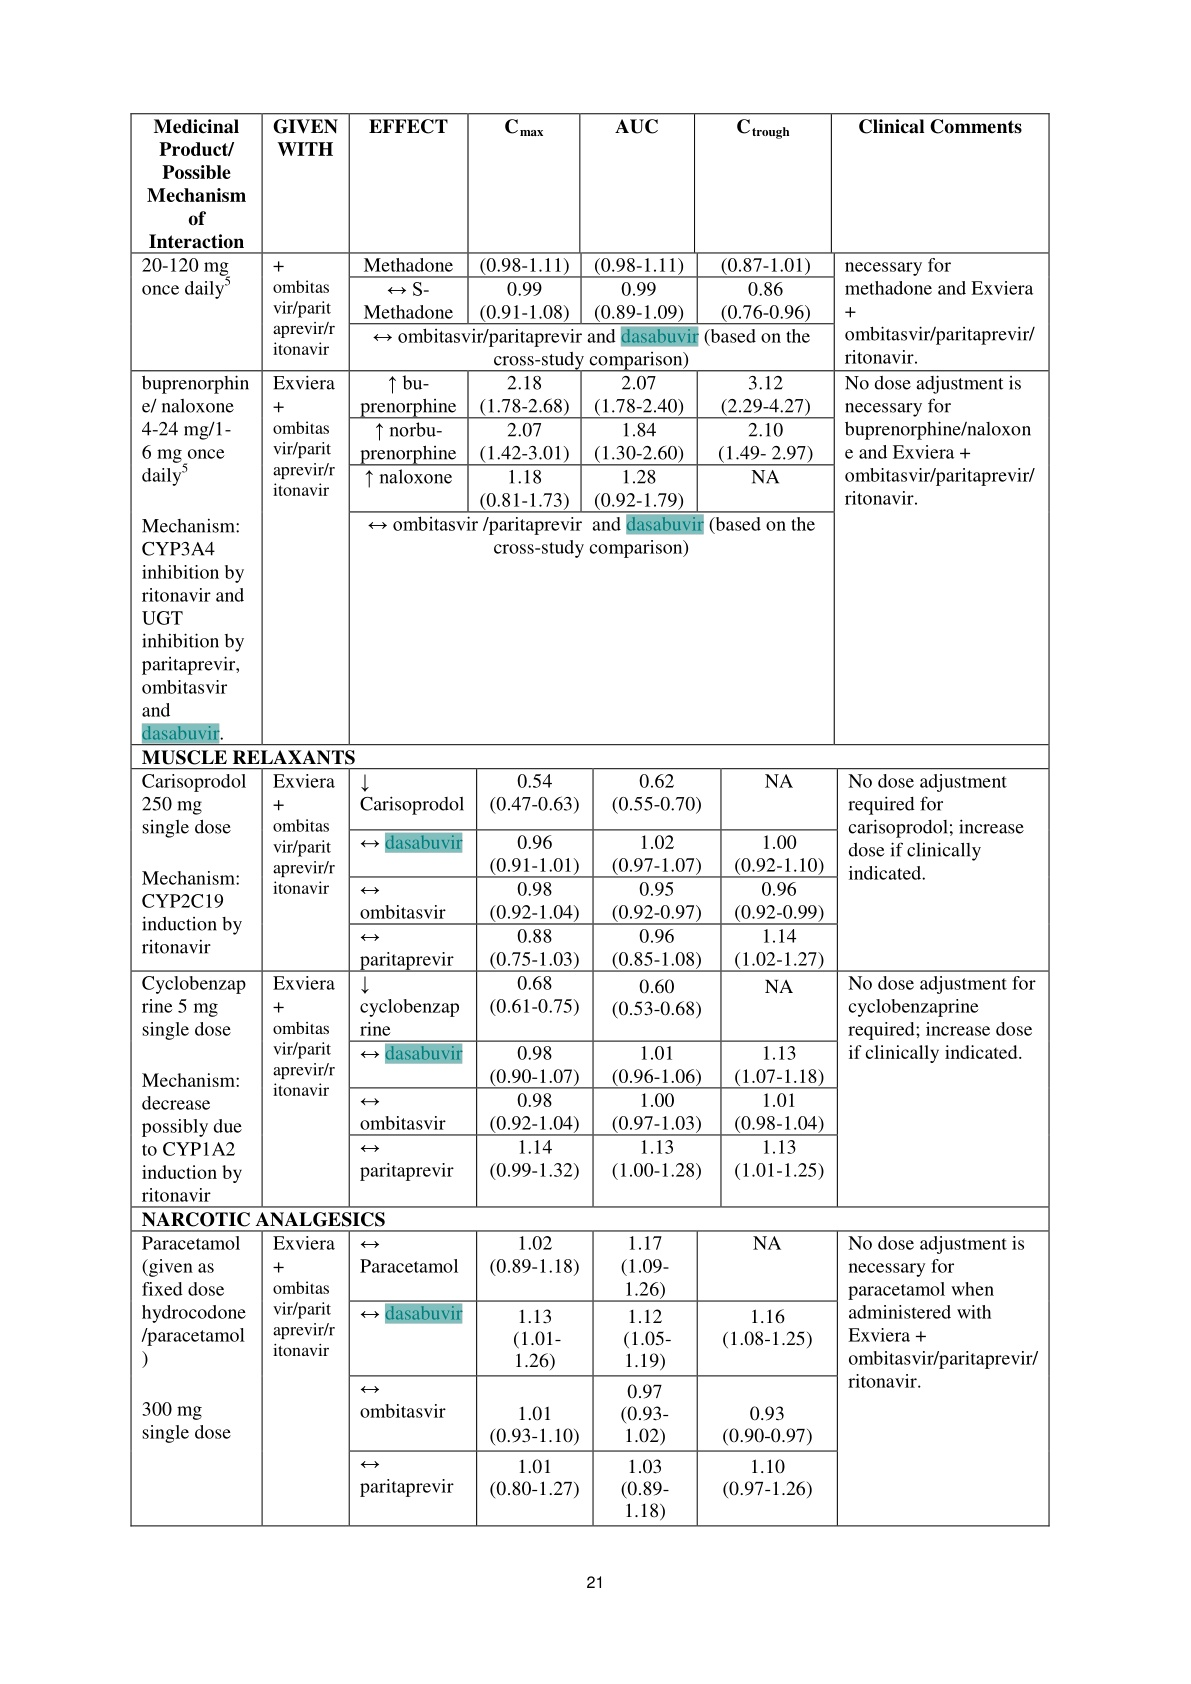merged_cells: (129, 112, 1051, 1528)
